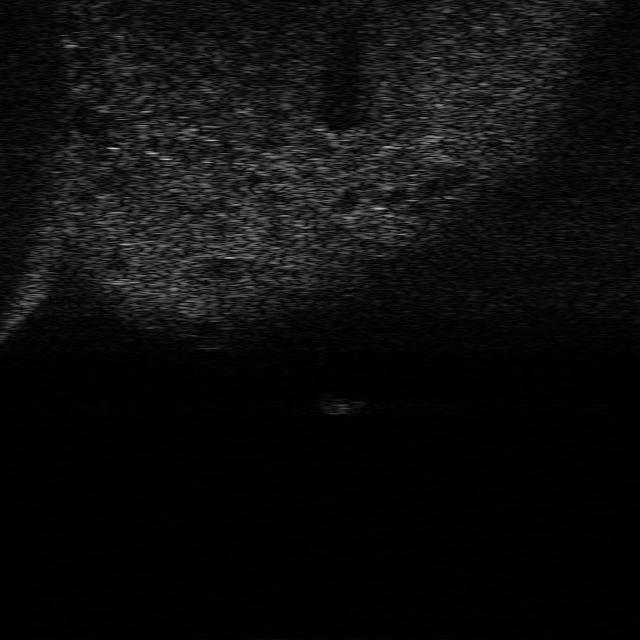cube: (313, 391, 362, 415)
